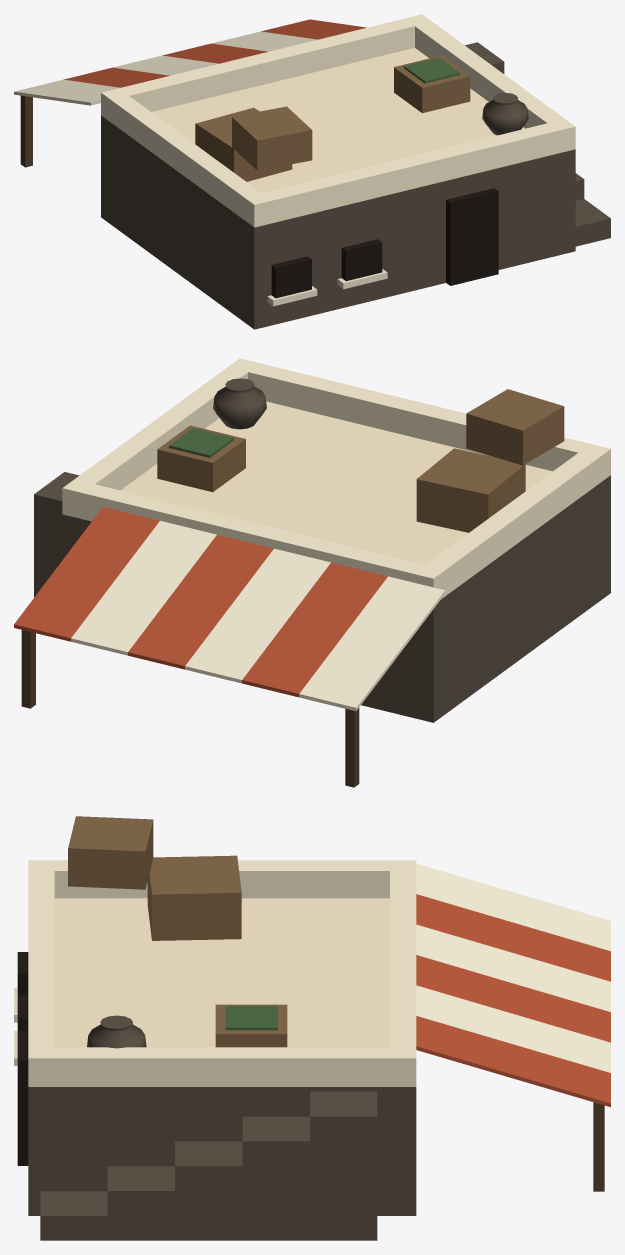
File: VerHut02.glb
The picture shows the model from 3 angles, top to bottom: view 1: azimuth 30°, elevation 25°; view 2: azimuth 150°, elevation 25°; view 3: azimuth 270°, elevation 25°; orthographic projection. The views are drawn at different scales.
Parts seen in each view (by area): view 1: VerHut02_adobe; view 2: VerHut02_adobe; view 3: VerHut02_adobe.
Part boxes in pixels (<box>): VerHut02_adobe: <box>14,14,610,329</box>; VerHut02_adobe: <box>14,358,610,787</box>; VerHut02_adobe: <box>14,816,610,1240</box>.
Bounding box in the file's own units: 4.62 × 2.03 × 5.09.
